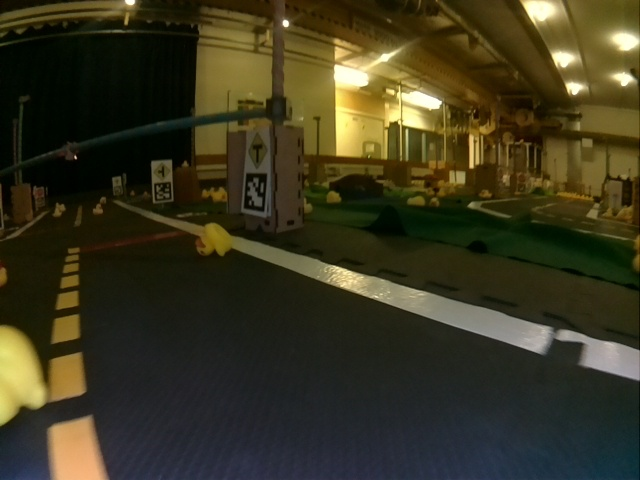Duckie: (194, 221, 231, 257)
Intersection sign: (248, 132, 266, 162), (153, 164, 172, 181)
QR code: (242, 172, 267, 211), (153, 182, 172, 201)
Traffic light: (63, 141, 78, 161)
